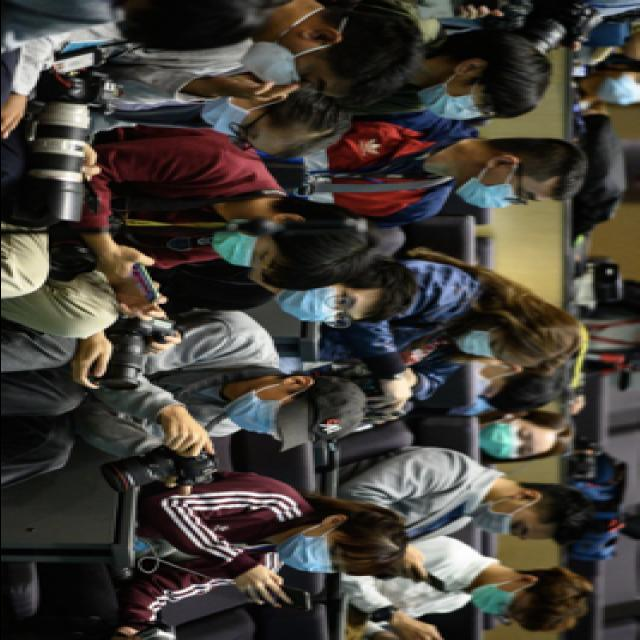mask: (242, 43, 336, 93), (225, 388, 298, 446), (274, 285, 364, 328), (417, 77, 501, 123), (278, 528, 360, 574), (199, 98, 271, 150), (456, 170, 546, 210), (212, 228, 288, 274), (480, 418, 544, 462), (477, 499, 539, 541), (453, 328, 518, 368), (470, 582, 525, 628), (468, 362, 510, 402)
